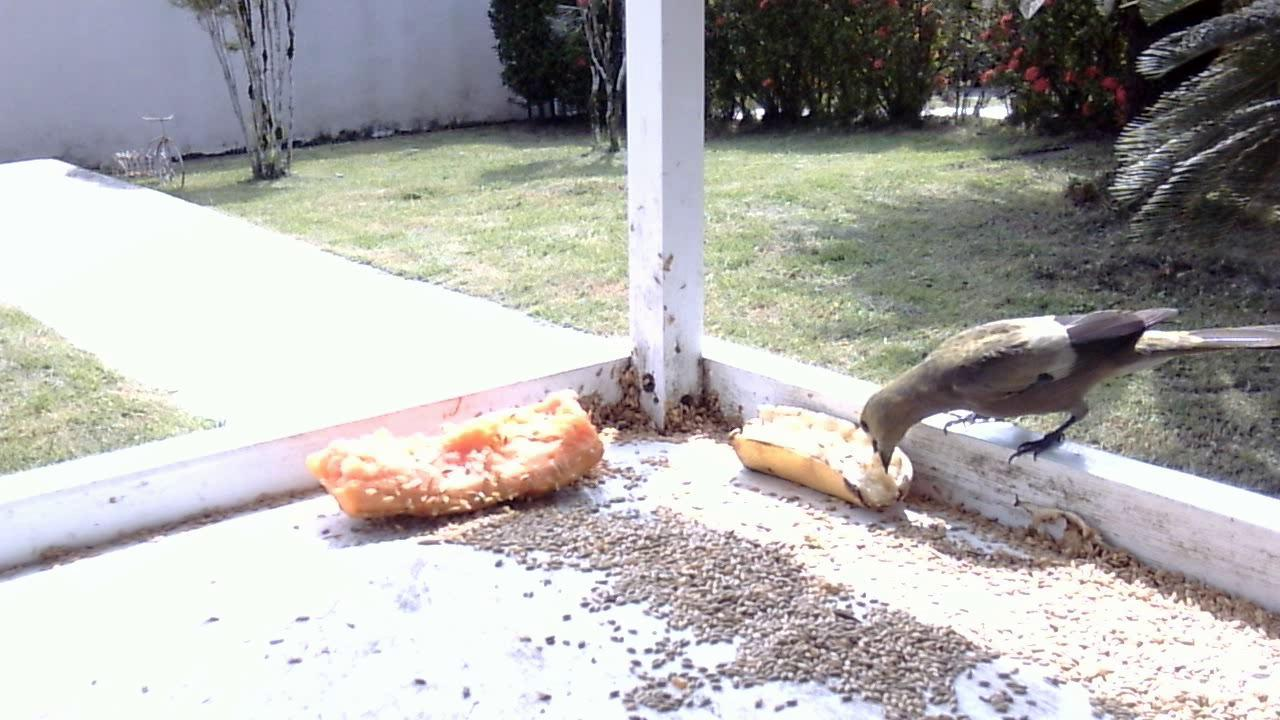sanhaco_do_coqueiro: (857, 302, 1265, 493)
